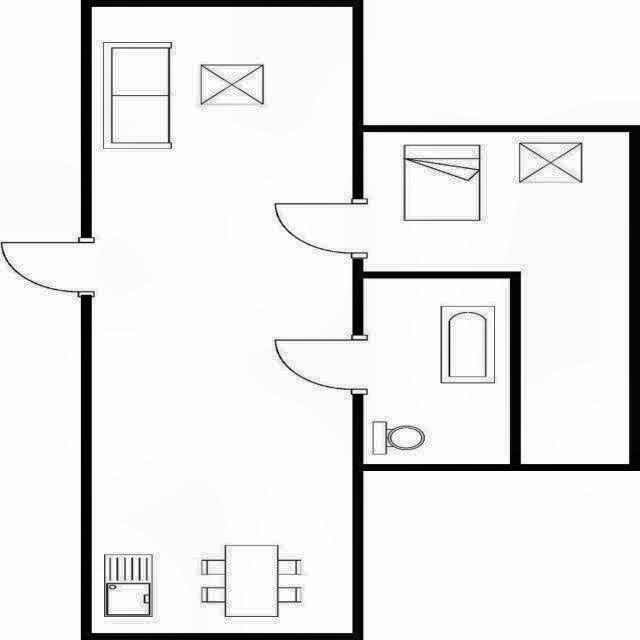room: (92, 7, 352, 633), (363, 132, 629, 464), (363, 278, 510, 464)
